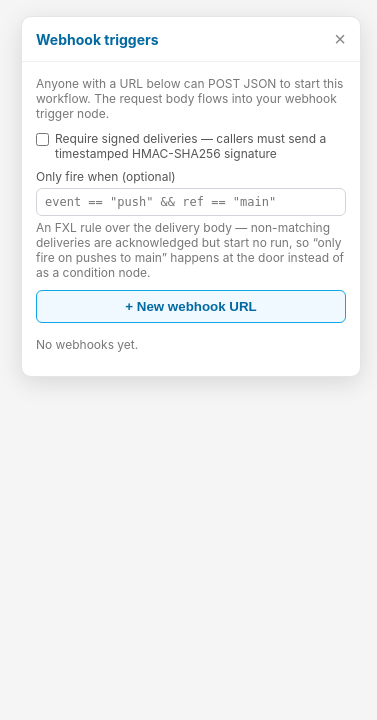
WebhookPanel signing › creates a signed webhook and shows the secret exactly once
The image size is (377, 720).
Step 1. Click the checkbox → (42, 140), box [36, 133, 49, 146]
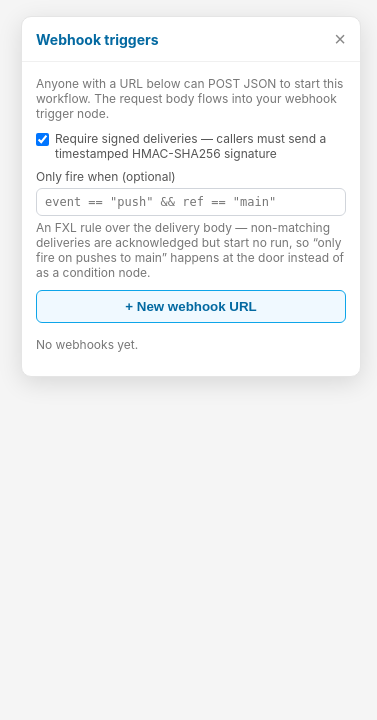
Step 2. Click the button "+ New webhook URL" → (191, 306), box [36, 290, 346, 323]
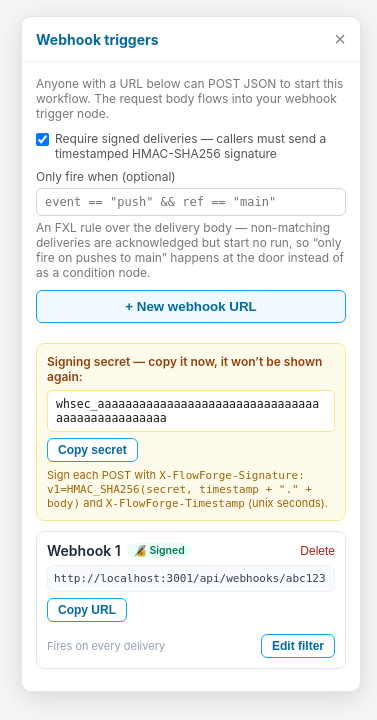
Check: the text "Signing secret — copy it now, it won’t be shown again:" is shown, box [47, 354, 335, 384]
Check: the text "X-FlowForge-Signature" is shown, box [47, 469, 312, 510]
Check: the text "🔏 Signed" is shown, box [127, 543, 192, 558]
